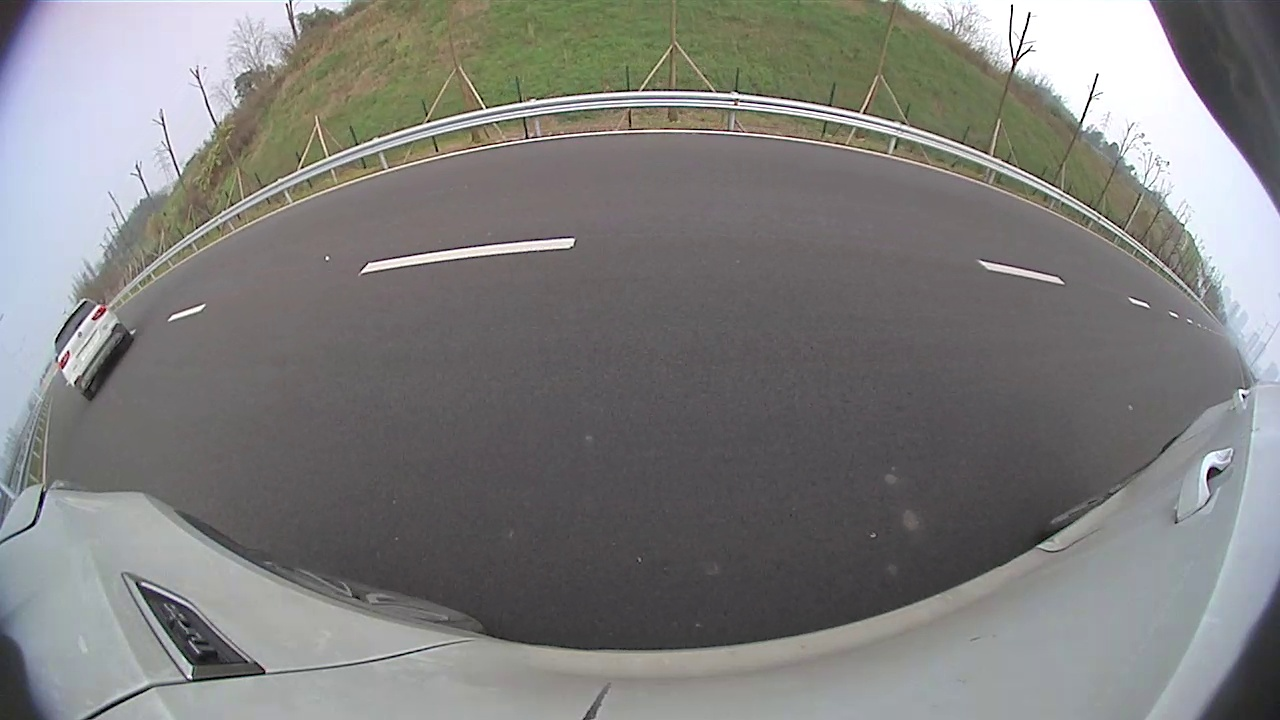car: (52, 297, 134, 402)
